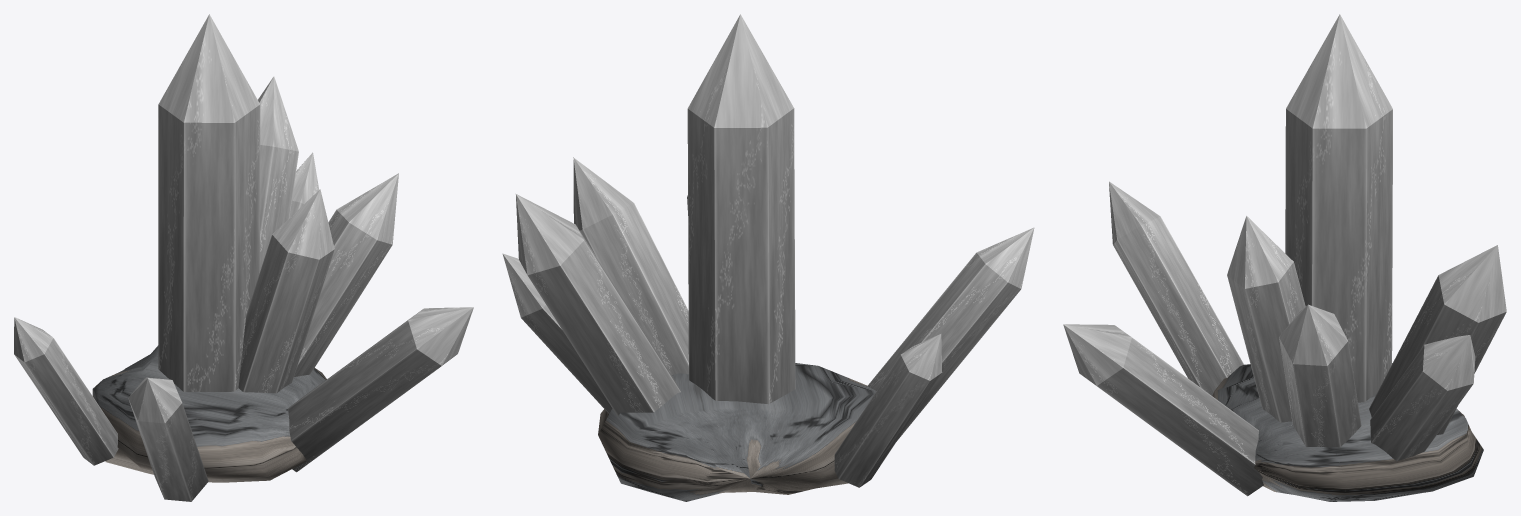
Rendered from rock_crystal_l0.gltf.
3 views of the same model, side by side, from view 1: azimuth 30°, elevation 25°; view 2: azimuth 150°, elevation 25°; view 3: azimuth 270°, elevation 25° (orthographic). The views are drawn at different scales.
Visible parts, largest first — view 1: rock_crystal_l0; view 2: rock_crystal_l0; view 3: rock_crystal_l0.
Boxes of the visible parts, left/top/right/bottom form: rock_crystal_l0: left=14, top=14, right=473, bottom=501; rock_crystal_l0: left=502, top=14, right=1034, bottom=501; rock_crystal_l0: left=1063, top=14, right=1506, bottom=501.
Size of the model in its own units: 1.5 by 1.67 by 1.49.
2 materials, 2 textured.
